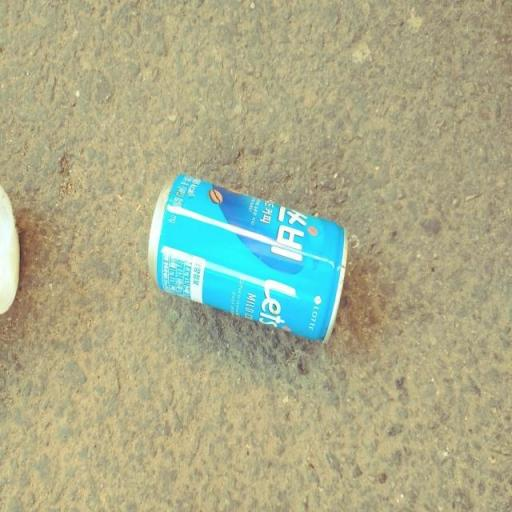metal: (126, 144, 370, 358)
